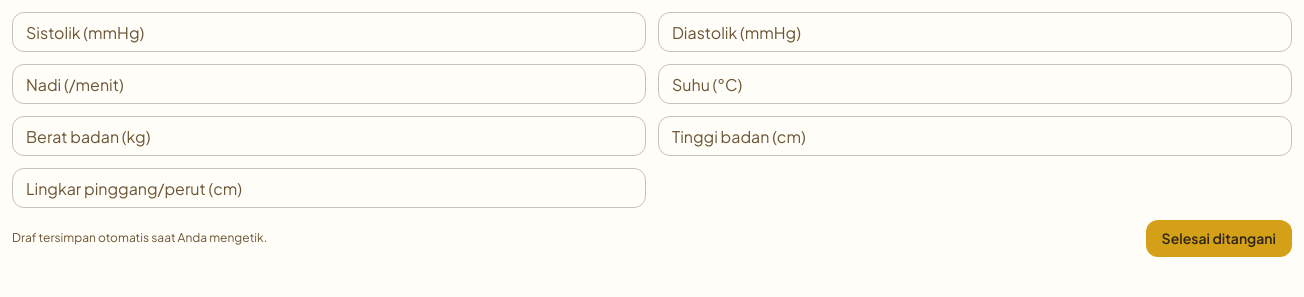
Test case: NurseVitalsCard (spec vital perawat VP1–VP3, VP6) › angka yang salah: Selesai ditangani tidak bisa ditekan (temuan review)
The image size is (1304, 297).
Type "400" into the field labelled "Sistolik (mmHg)" at coordinates (329, 32), box [12, 12, 646, 52]
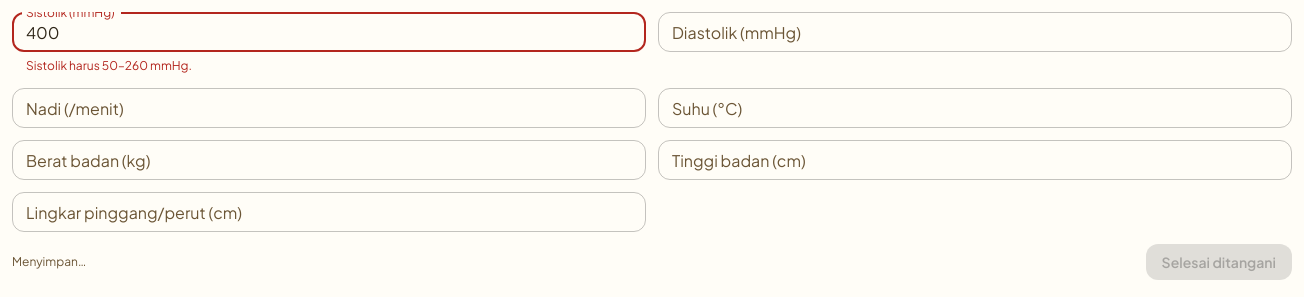
Now the button "Selesai ditangani" is disabled, box [1146, 244, 1292, 280]
